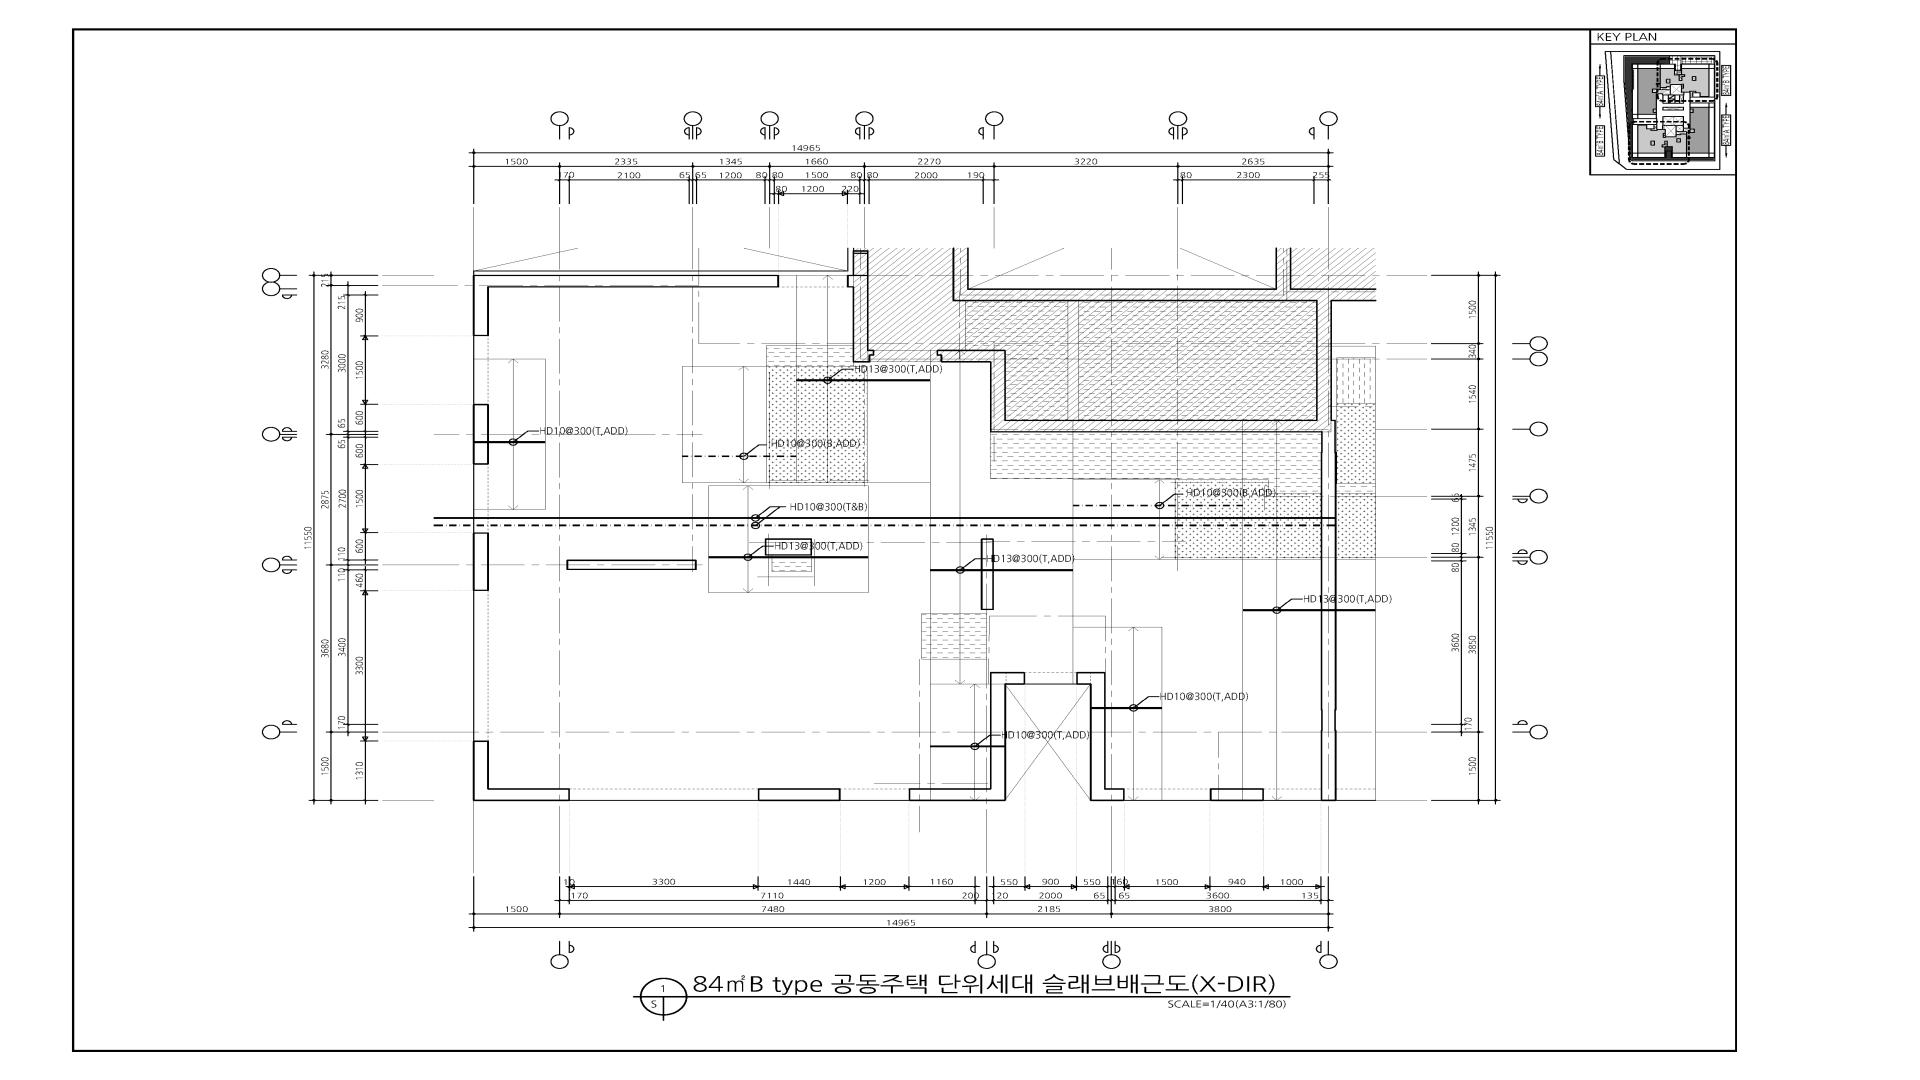wall: (1321, 433, 1337, 800), (969, 289, 1377, 301), (1006, 419, 1336, 433), (489, 274, 779, 287), (853, 251, 870, 363), (1316, 301, 1332, 419), (990, 684, 1006, 802), (1089, 684, 1106, 789), (566, 559, 696, 570), (473, 789, 570, 800), (990, 363, 1006, 433), (909, 789, 990, 802), (758, 789, 840, 802), (472, 274, 489, 336), (472, 404, 489, 464), (472, 533, 489, 591), (981, 538, 994, 611), (936, 349, 1006, 363), (952, 248, 969, 301), (765, 538, 812, 555), (473, 741, 489, 789), (1209, 789, 1263, 802), (1275, 248, 1291, 289), (990, 671, 1025, 684), (1089, 789, 1125, 800), (1076, 673, 1105, 684), (847, 274, 853, 287), (870, 349, 874, 356)
